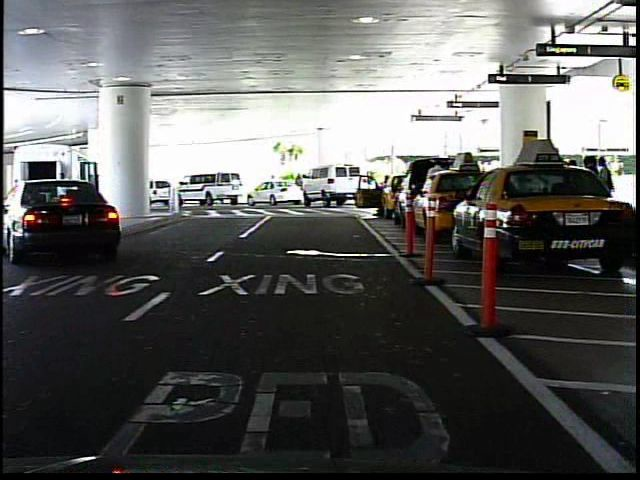person: (293, 170, 307, 202), (266, 172, 281, 201), (425, 156, 449, 173)
